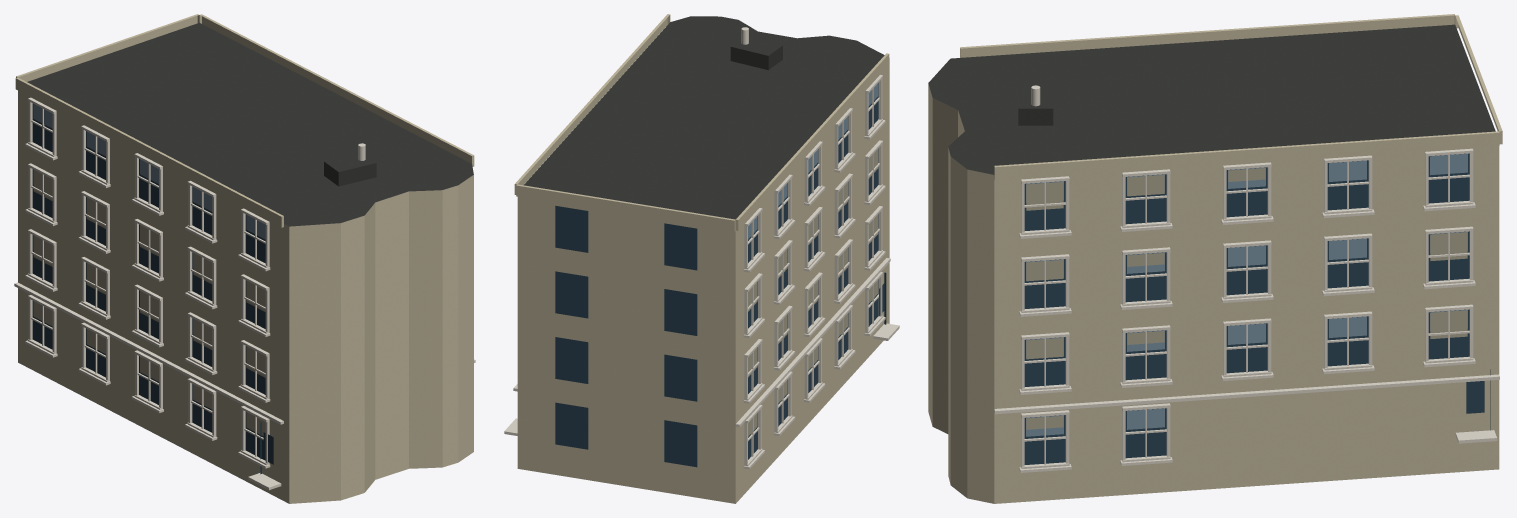
The picture shows the model from 3 angles, left to right: view 1: azimuth 30°, elevation 25°; view 2: azimuth 150°, elevation 25°; view 3: azimuth 270°, elevation 25°; orthographic projection. The views are drawn at different scales.
Parts seen in each view (by area): view 1: Footprint 0 / surface 2, Footprint 0 / surface 1, Cornices and window frames, Facade bay volumes, Inset glazing, Interior blind variation, Sky reflection panels, Inferred rooftop service enclosure / surface 5, Inferred rooftop service enclosure / surface 3; view 2: Footprint 0 / surface 2, Footprint 0 / surface 1, Cornices and window frames, Inset glazing, Facade bay volumes, Interior blind variation, Sky reflection panels, Inferred rooftop service enclosure / surface 6, Inferred rooftop service enclosure / surface 3; view 3: Footprint 0 / surface 2, Footprint 0 / surface 1, Cornices and window frames, Inset glazing, Facade bay volumes, Sky reflection panels, Interior blind variation, Inferred rooftop service enclosure / surface 3, Inferred rooftop service enclosure / surface 1.
Part boxes in pixels (box(x1,y1,x2,y2)): Footprint 0 / surface 2: box(18, 90, 473, 503); Footprint 0 / surface 1: box(27, 22, 473, 226); Cornices and window frames: box(14, 97, 475, 490); Facade bay volumes: box(15, 14, 474, 227); Inset glazing: box(32, 103, 273, 464); Interior blind variation: box(33, 170, 265, 436); Sky reflection panels: box(33, 103, 265, 398); Inferred rooftop service enclosure / surface 5: box(338, 163, 376, 186); Inferred rooftop service enclosure / surface 3: box(324, 153, 376, 171); Footprint 0 / surface 2: box(517, 58, 889, 503); Footprint 0 / surface 1: box(524, 16, 884, 219); Cornices and window frames: box(504, 37, 899, 469); Inset glazing: box(555, 83, 884, 467); Facade bay volumes: box(514, 14, 889, 231); Interior blind variation: box(748, 149, 878, 436); Sky reflection panels: box(748, 83, 878, 239); Inferred rooftop service enclosure / surface 6: box(730, 47, 768, 70); Inferred rooftop service enclosure / surface 3: box(731, 37, 782, 55); Footprint 0 / surface 2: box(928, 84, 1499, 503); Footprint 0 / surface 1: box(928, 24, 1495, 174); Cornices and window frames: box(994, 148, 1499, 472); Inset glazing: box(1024, 153, 1484, 464); Facade bay volumes: box(960, 14, 1502, 180); Sky reflection panels: box(1026, 153, 1467, 436); Interior blind variation: box(1026, 168, 1467, 429); Inferred rooftop service enclosure / surface 3: box(1018, 86, 1053, 108); Inferred rooftop service enclosure / surface 1: box(1018, 108, 1053, 125).
Size of the model in its own units: 12.66 by 13.85 by 19.85.
